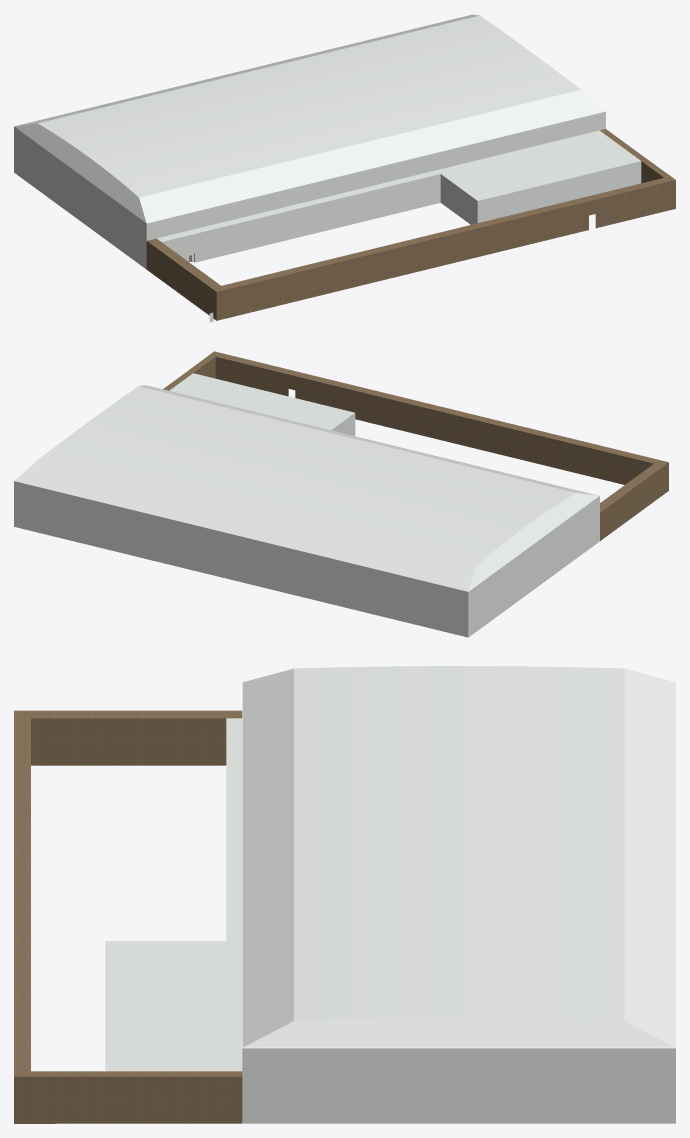
Rendered from Ninetjer_v1.glb.
3 renders of one model, top to bottom at view 1: azimuth 30°, elevation 25°; view 2: azimuth 150°, elevation 25°; view 3: azimuth 270°, elevation 25°, orthographic. The views are drawn at different scales.
Visible parts, largest first — view 1: Mesh1 Component_1_1 Model, Mesh2 Model; view 2: Mesh1 Component_1_1 Model, Mesh2 Model; view 3: Mesh1 Component_1_1 Model, Mesh2 Model.
Boxes of the visible parts, box(x1,y1,x2,y2) form: Mesh1 Component_1_1 Model: box(14, 14, 604, 223); Mesh2 Model: box(14, 111, 675, 320); Mesh1 Component_1_1 Model: box(15, 385, 599, 591); Mesh2 Model: box(14, 351, 668, 637); Mesh1 Component_1_1 Model: box(242, 666, 675, 1047); Mesh2 Model: box(14, 710, 675, 1123).
Size of the model in its own units: 84.53 by 10.53 by 63.61.
Materials: 5 (3 with a texture image).
